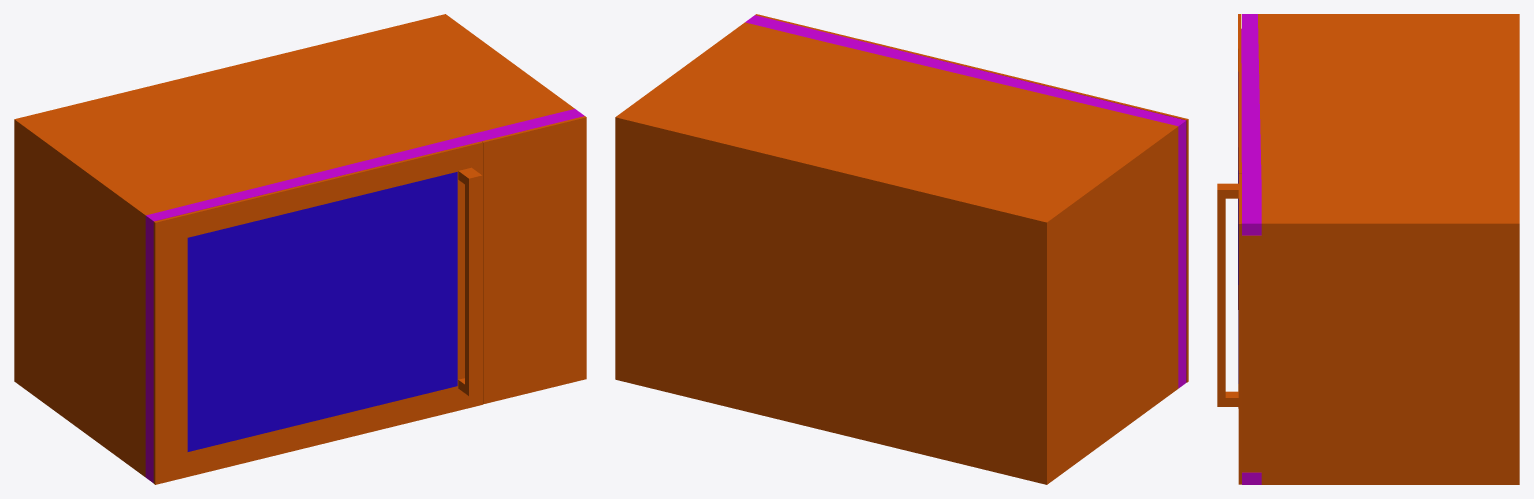
The model's file is Microwave.fbx.
3 views of the same model, side by side, from view 1: azimuth 30°, elevation 25°; view 2: azimuth 150°, elevation 25°; view 3: azimuth 270°, elevation 25° (orthographic).
Visible parts, largest first — view 1: Microwave, Door; view 2: Microwave, Door; view 3: Microwave, Door.
Boxes of the visible parts, x1,y1,x2,y2 form: Microwave: [14, 14, 586, 482]; Door: [153, 141, 482, 484]; Microwave: [615, 14, 1186, 484]; Door: [859, 39, 1188, 382]; Microwave: [1238, 14, 1519, 484]; Door: [1217, 14, 1241, 408].
Bounding box in the file's own units: 44 × 25.54 × 26.8.
